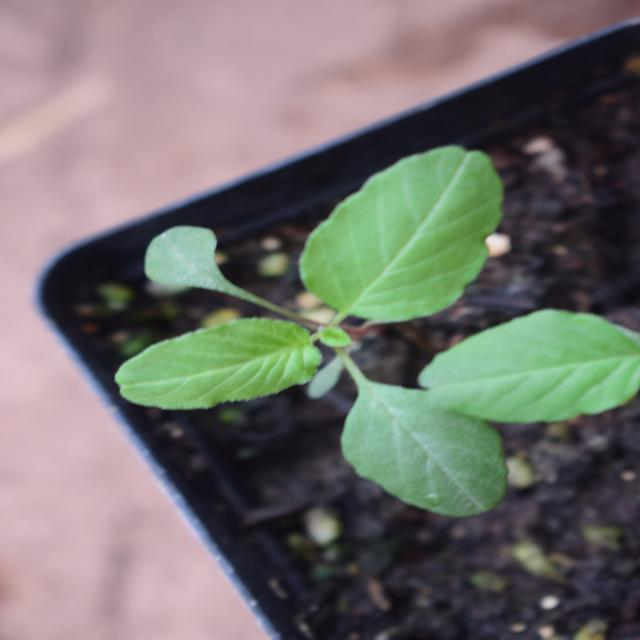pigweed: (99, 161, 512, 619)
